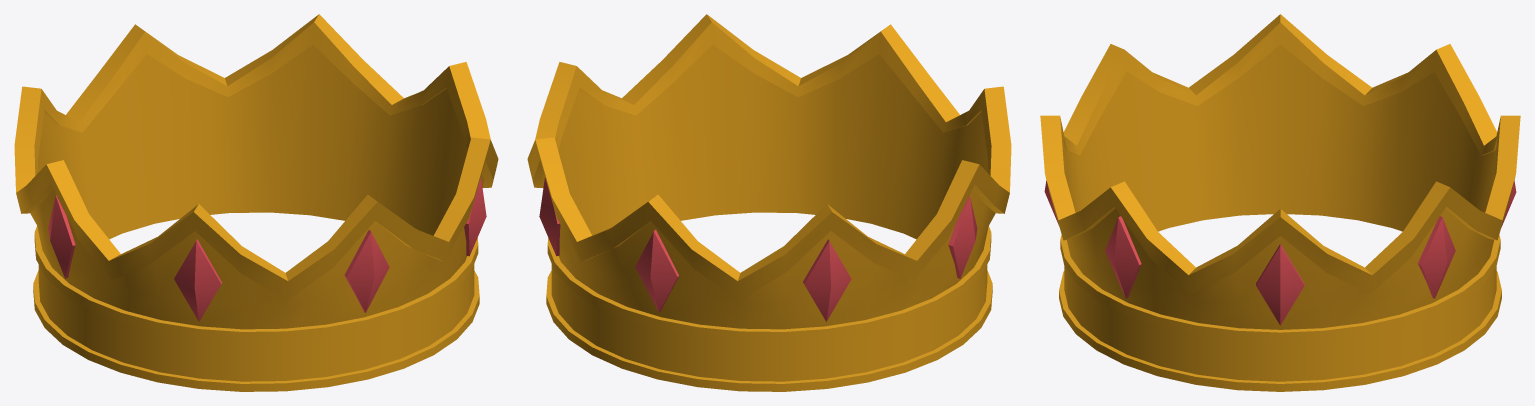
Rendered from Crown.fbx.
The picture shows the model from 3 angles, left to right: view 1: azimuth 30°, elevation 25°; view 2: azimuth 150°, elevation 25°; view 3: azimuth 270°, elevation 25°; orthographic projection.
Visible parts, largest first — view 1: Circle; view 2: Circle; view 3: Circle.
Part boxes in pixels (<box>): Circle: <box>14,14,498,391</box>; Circle: <box>527,14,1011,391</box>; Circle: <box>1040,14,1520,391</box>.
Size of the model in its own units: 200 by 85.52 by 200.
